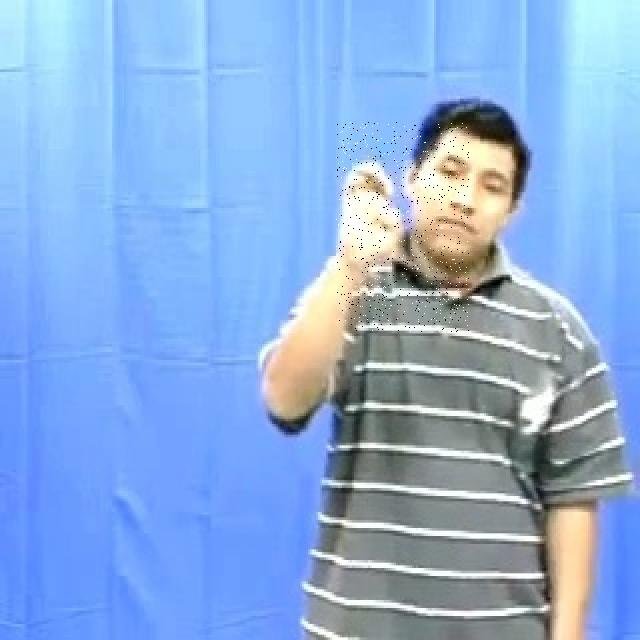coke: (336, 122, 469, 332)
